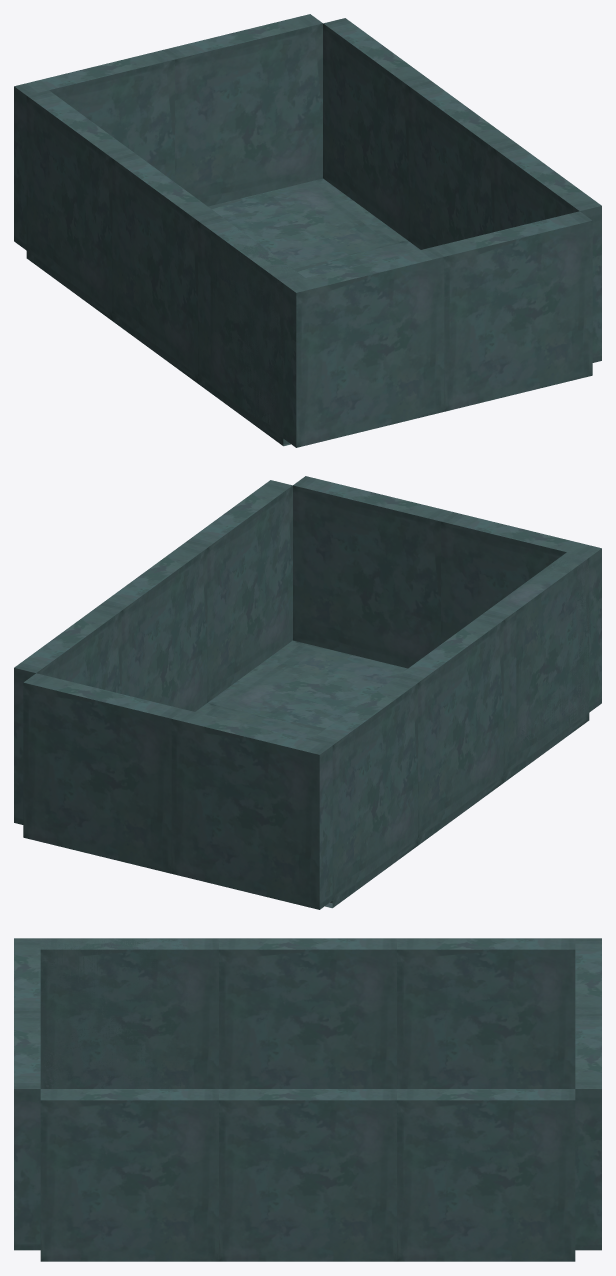
The model's file is map_asset .fbx.
3 views of the same model, one above another, from view 1: azimuth 30°, elevation 25°; view 2: azimuth 150°, elevation 25°; view 3: azimuth 270°, elevation 25° (orthographic). The views are drawn at different scales.
Parts seen in each view (by area): view 1: wall.009, wall.008, wall.004, wall.002, wall.005, wall.001, wall.006, wall, wall.003, wall_short, tile.005, wall.007 (+4 smaller); view 2: wall.003, wall.004, wall.008, wall.002, wall.007, wall.001, wall.006, wall_short, wall.009, tile.003, wall.005, wall (+4 smaller); view 3: wall.005, wall.007, wall.006, wall.002, wall, wall.001, wall.004, wall.008, wall_short, wall.003, wall.009.
Boxes of the visible parts, x1,y1,x2,y2 form: wall.009: (283,247,444,447); wall.008: (432,211,592,411); wall.004: (162,14,322,206); wall.002: (26,90,134,312); wall.005: (323,18,430,240); wall.001: (112,153,219,375); wall.006: (408,80,515,249); wall: (198,215,305,437); wall.003: (14,50,174,250); wall_short: (210,227,304,437); tile.005: (208,178,407,268); wall.007: (494,143,601,362); wall.003: (171,709,332,909); wall.004: (23,673,183,873); wall.008: (293,476,453,668); wall.002: (310,677,417,899); wall.007: (185,480,292,702); wall.001: (396,615,503,837); wall.006: (100,542,207,711); wall_short: (494,552,589,748); wall.009: (441,512,601,712); tile.003: (208,640,407,730); wall.005: (14,605,121,824); wall: (481,552,589,774); wall.005: (397,1089,575,1261); wall.007: (40,1089,218,1261); wall.006: (219,1089,396,1261); wall.002: (397,938,575,1088); wall: (40,938,218,1088); wall.001: (219,938,396,1088); wall.004: (575,1013,601,1250); wall.008: (14,1013,40,1250); wall_short: (40,938,192,1088); wall.003: (575,938,601,1013); wall.009: (14,938,40,1013).
Bounding box in the file's own units: 860 × 420 × 1320.
